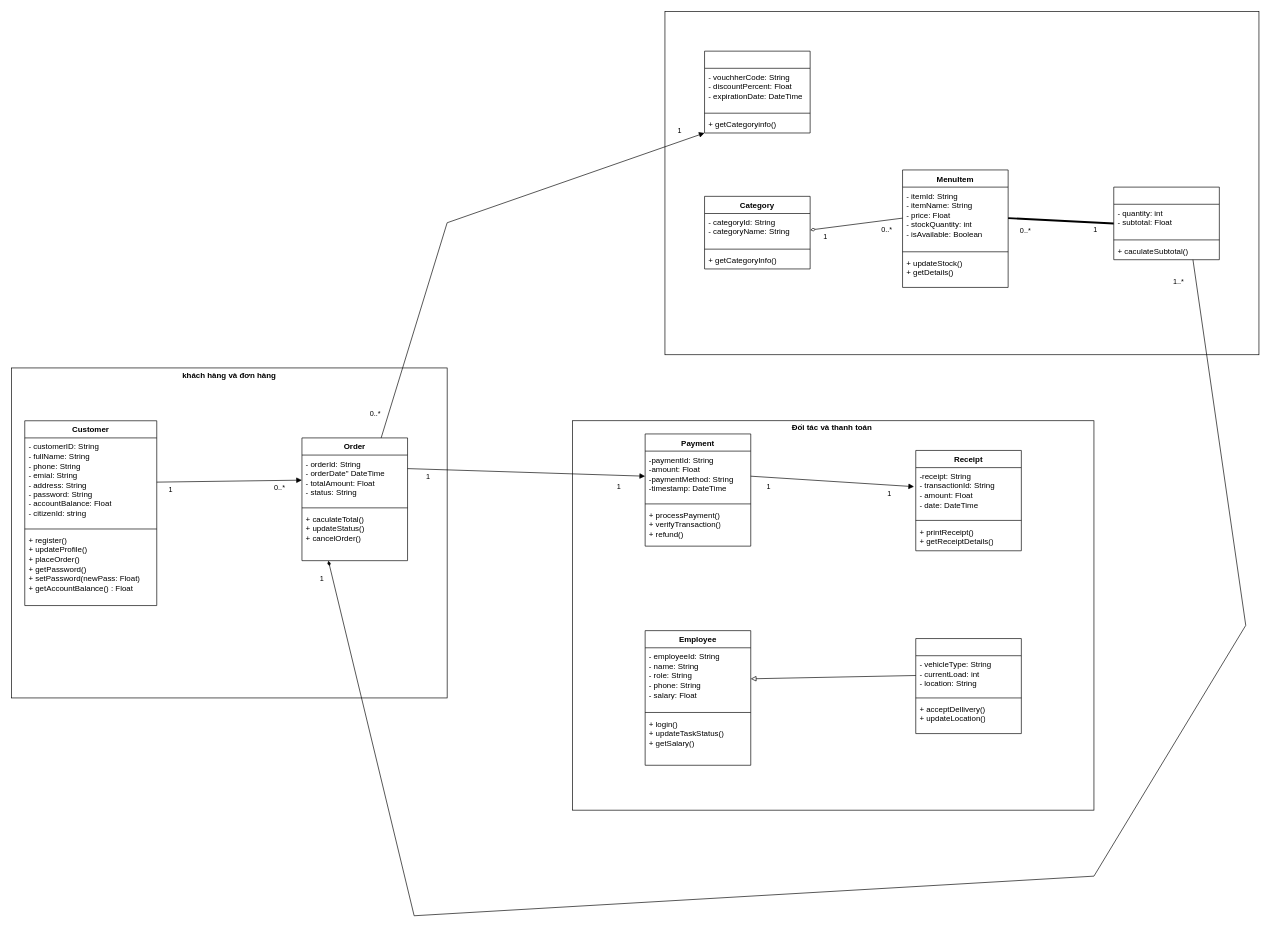
Some shapes in this 1271 by 933 pixel diagram are drawn without their labels. Each missing label, with the box of its shape:
orderItem: (1113, 186, 1219, 260)
Shipper: (915, 638, 1021, 734)
thực đơn và khuyến mãi: (664, 11, 1259, 355)
Voucher: (704, 50, 810, 133)
